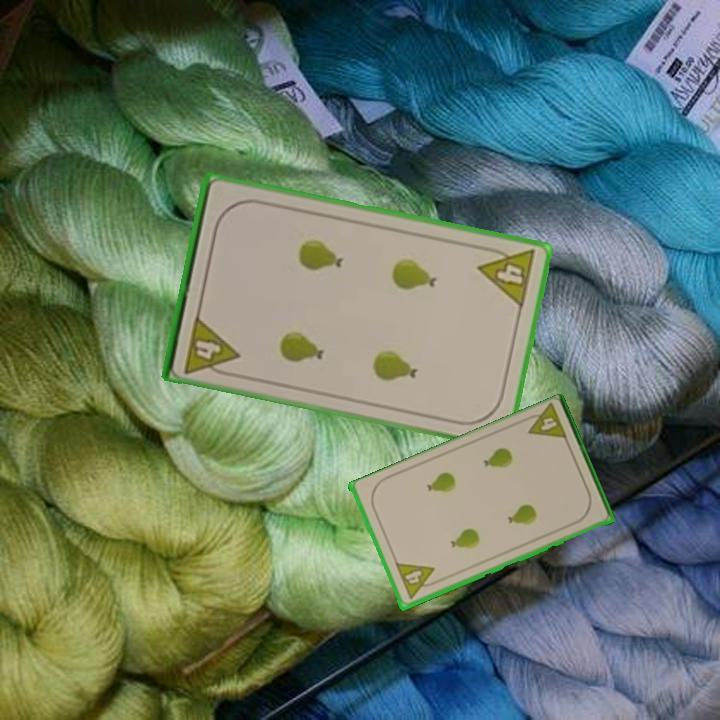4p: (474, 242, 539, 311), (180, 312, 242, 380), (519, 401, 570, 444), (392, 560, 441, 603)
